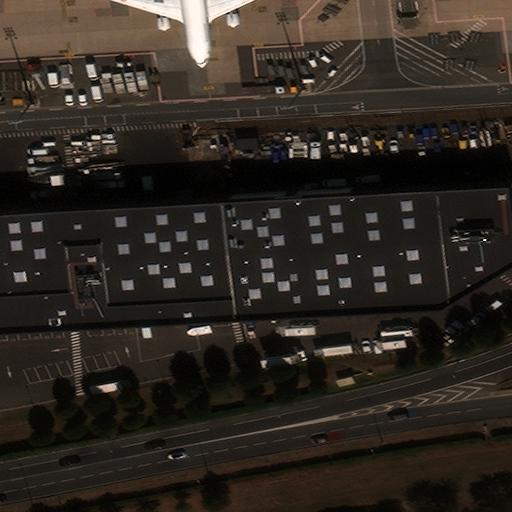Large Civil Transport: (103, 0, 270, 66)
